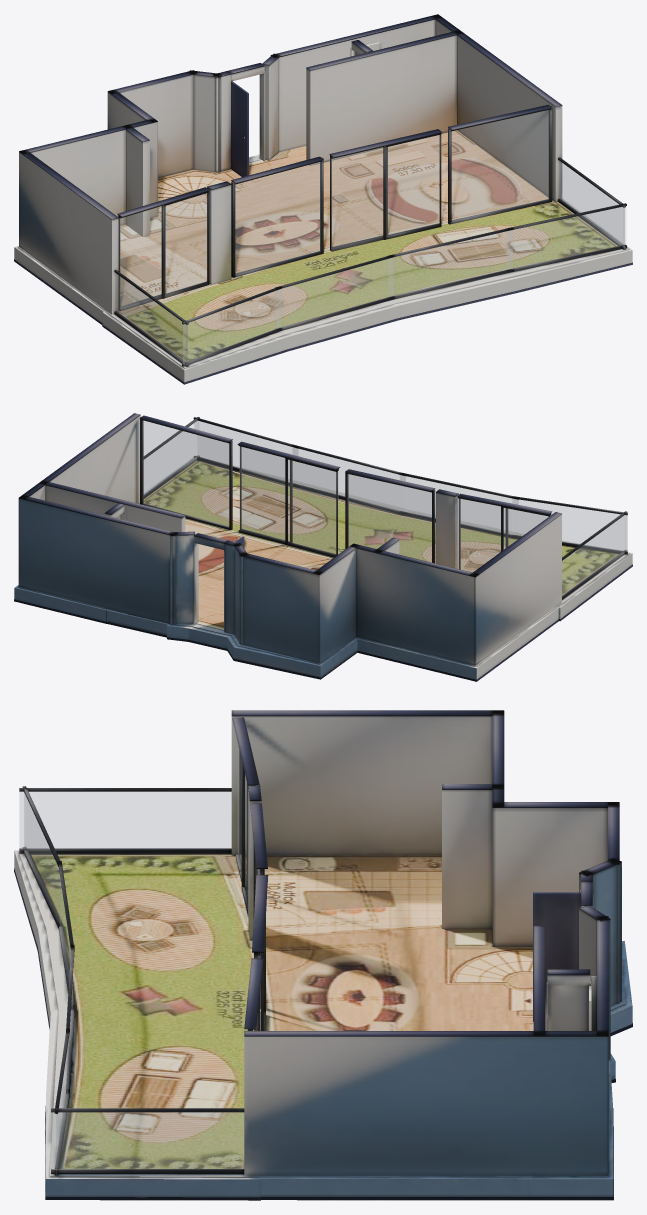
3 renders of one model, top to bottom at view 1: azimuth 30°, elevation 25°; view 2: azimuth 150°, elevation 25°; view 3: azimuth 270°, elevation 25°, orthographic. The views are drawn at different scales.
Visible parts, largest first — view 1: plan, glass2_m, glass3_m, glass1_m, glass0_m, railg3_m, railg2_m, railg4_m, railg5_m, railg1_m, railg0_m; view 2: plan, glass2_m, glass3_m, glass1_m, glass0_m, railg3_m, railg5_m, railg2_m, railg4_m, railg1_m, railg0_m; view 3: plan, railg1_m, railg0_m, railg5_m, glass0_m.
Boxes of the visible parts, <box> form: plan: <box>14,14,632,384</box>; glass2_m: <box>331,135,439,248</box>; glass3_m: <box>452,110,548,220</box>; glass1_m: <box>235,162,320,273</box>; glass0_m: <box>119,193,206,307</box>; railg3_m: <box>388,230,512,296</box>; railg2_m: <box>506,207,625,269</box>; railg4_m: <box>276,257,394,328</box>; railg5_m: <box>183,289,281,363</box>; railg1_m: <box>115,273,187,363</box>; railg0_m: <box>559,161,624,246</box>; plan: <box>14,413,632,681</box>; glass2_m: <box>239,446,338,554</box>; glass3_m: <box>143,420,228,526</box>; glass1_m: <box>348,474,431,562</box>; glass0_m: <box>458,498,547,572</box>; railg3_m: <box>292,447,405,511</box>; railg5_m: <box>512,499,627,551</box>; railg2_m: <box>194,421,298,481</box>; railg4_m: <box>400,475,518,535</box>; railg1_m: <box>562,515,625,596</box>; railg0_m: <box>144,421,198,494</box>; plan: <box>14,710,632,1200</box>; railg1_m: <box>19,792,231,848</box>; railg0_m: <box>51,1112,243,1169</box>; railg5_m: <box>24,793,60,925</box>; glass0_m: <box>238,745,247,895</box>.
Size of the model in its own units: 11.47 by 2.62 by 9.07.
Materials: 2 (1 with a texture image).
